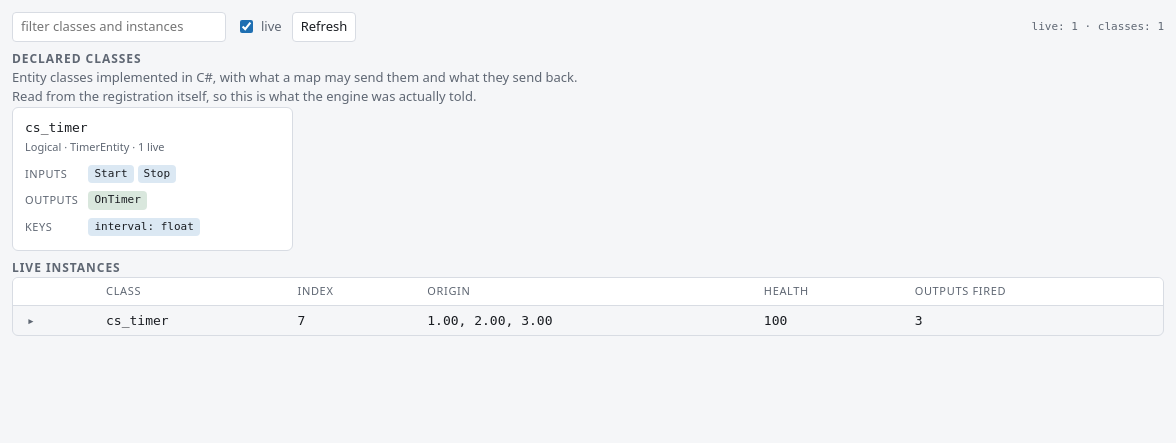
Test: a live instance › opens to show its keys and what each output did
Expected: the heading "cs_timer" is shown, [25,120,88,134]
Click the button "▸": [31, 320] box [23,310,39,330]
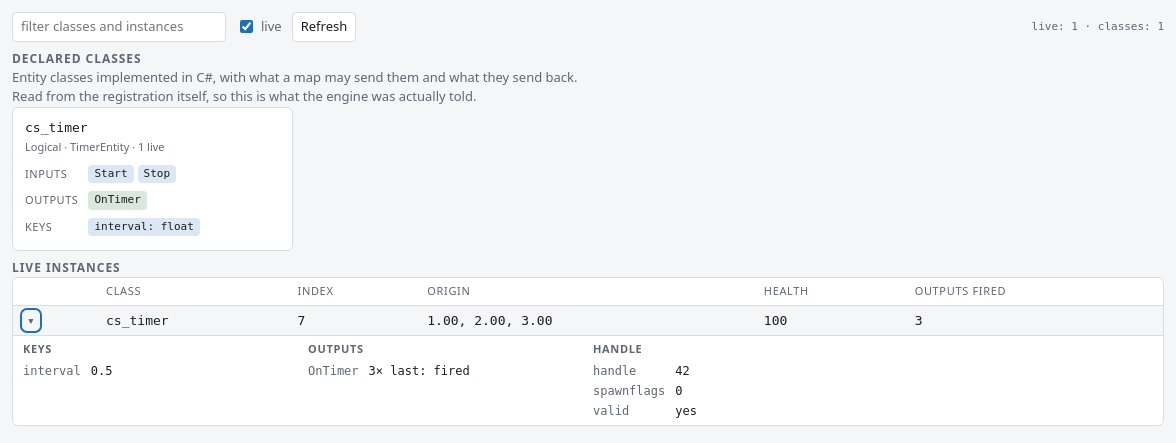
Now the text "interval" is shown, box [23,362,81,380]
Now the text "0.5" is shown, box [91,364,112,378]
Now the text "3× last: fired" is shown, box [369,364,470,378]
